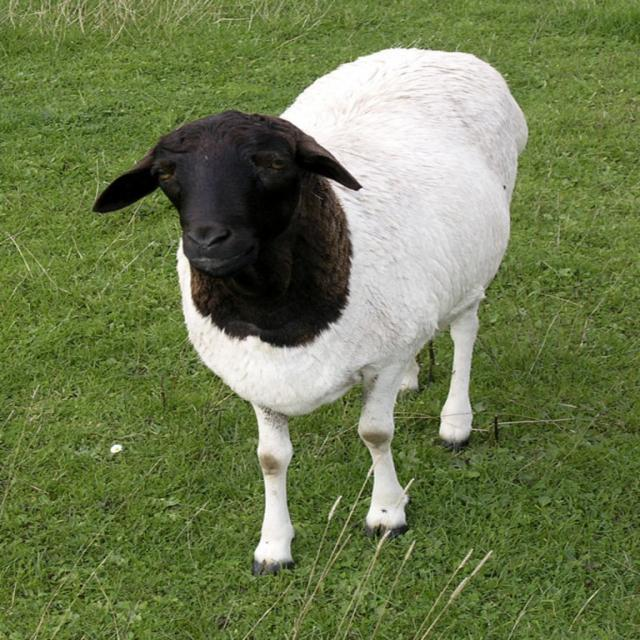Goat: (91, 45, 530, 577)
